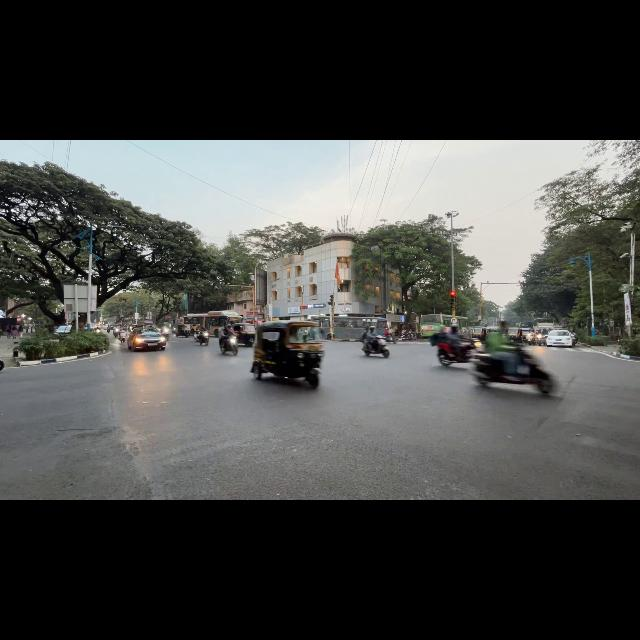bus: (181, 311, 243, 336), (334, 316, 386, 339), (204, 311, 243, 337), (421, 314, 452, 337)
car: (127, 327, 167, 351), (547, 330, 573, 347), (54, 325, 72, 338)
motorcycle: (473, 348, 555, 393), (437, 341, 475, 366), (362, 335, 389, 357), (220, 336, 237, 355), (197, 332, 209, 345), (402, 330, 416, 340), (384, 334, 398, 344), (524, 333, 535, 345), (533, 334, 545, 345), (118, 330, 126, 342), (570, 332, 577, 345), (114, 328, 120, 338), (0, 359, 4, 370), (107, 328, 110, 332)
